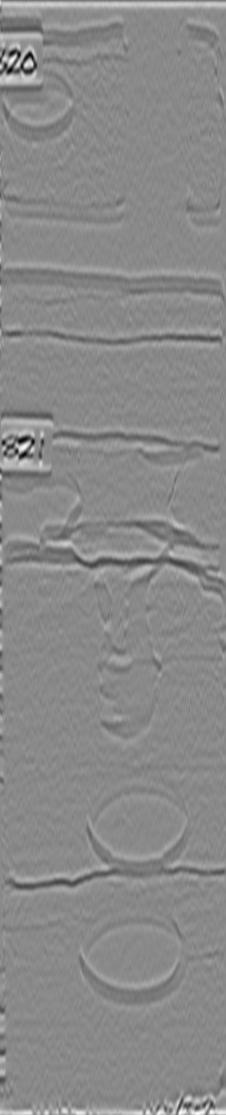hplug: (5, 460, 85, 549), (1, 65, 82, 145)
scal: (74, 900, 192, 1008), (82, 771, 198, 876)
vplug: (116, 36, 200, 215), (132, 439, 209, 550)
